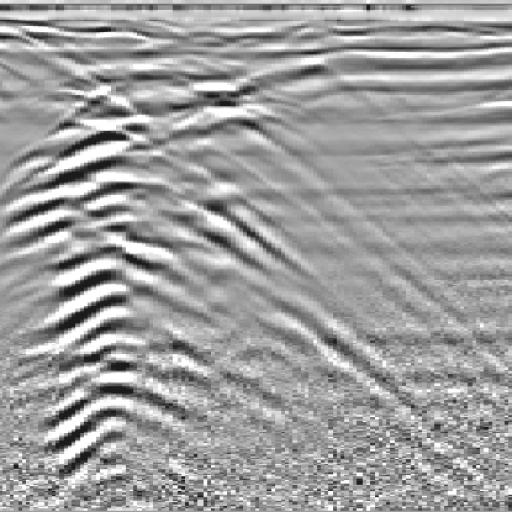metalic: (1, 45, 239, 458)
